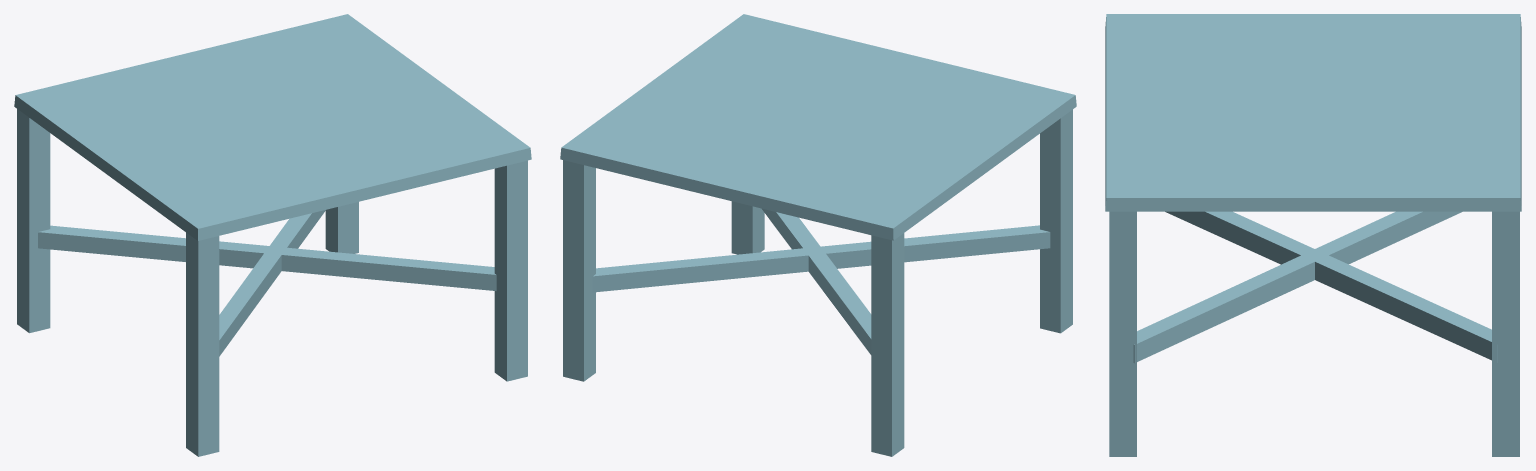
Rendered from lo_Prop_SmallTable_B.fbx.
The picture shows the model from 3 angles, left to right: view 1: azimuth 30°, elevation 25°; view 2: azimuth 150°, elevation 25°; view 3: azimuth 270°, elevation 25°; orthographic projection. The views are drawn at different scales.
Parts seen in each view (by area): view 1: lo_Prop_SmallTable_B_LOD0; view 2: lo_Prop_SmallTable_B_LOD0; view 3: lo_Prop_SmallTable_B_LOD0.
Boxes of the visible parts, box(x1,y1,x2,y2) form: lo_Prop_SmallTable_B_LOD0: box(14, 14, 531, 456); lo_Prop_SmallTable_B_LOD0: box(560, 14, 1076, 456); lo_Prop_SmallTable_B_LOD0: box(1105, 14, 1521, 456).
Size of what is drawn, in the model's own units: 1.06 by 0.6965 by 1.01.
